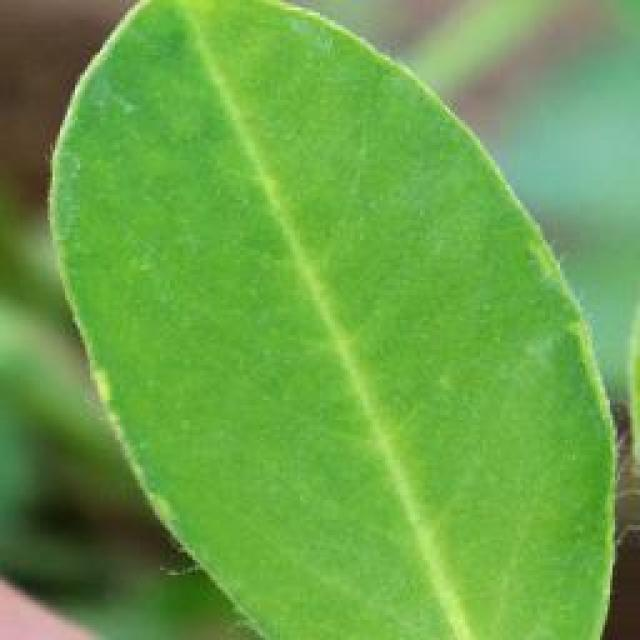Yellow_and_black_sigatoka: (48, 2, 617, 640)
